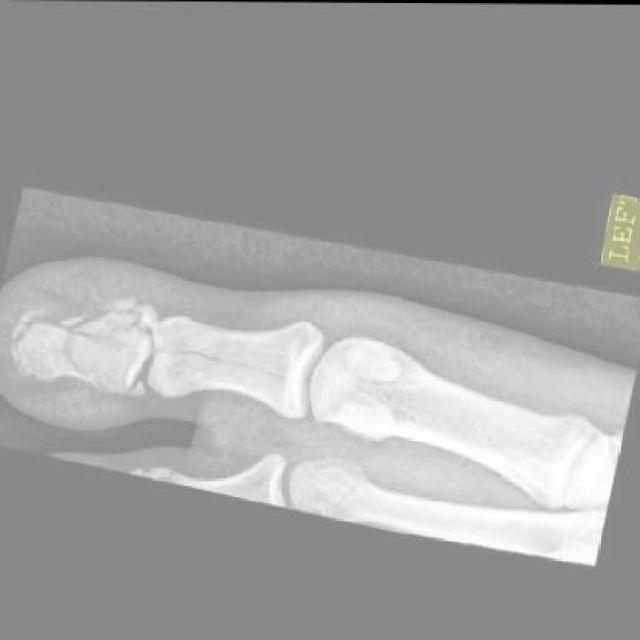Fracture: (0, 274, 169, 414)
